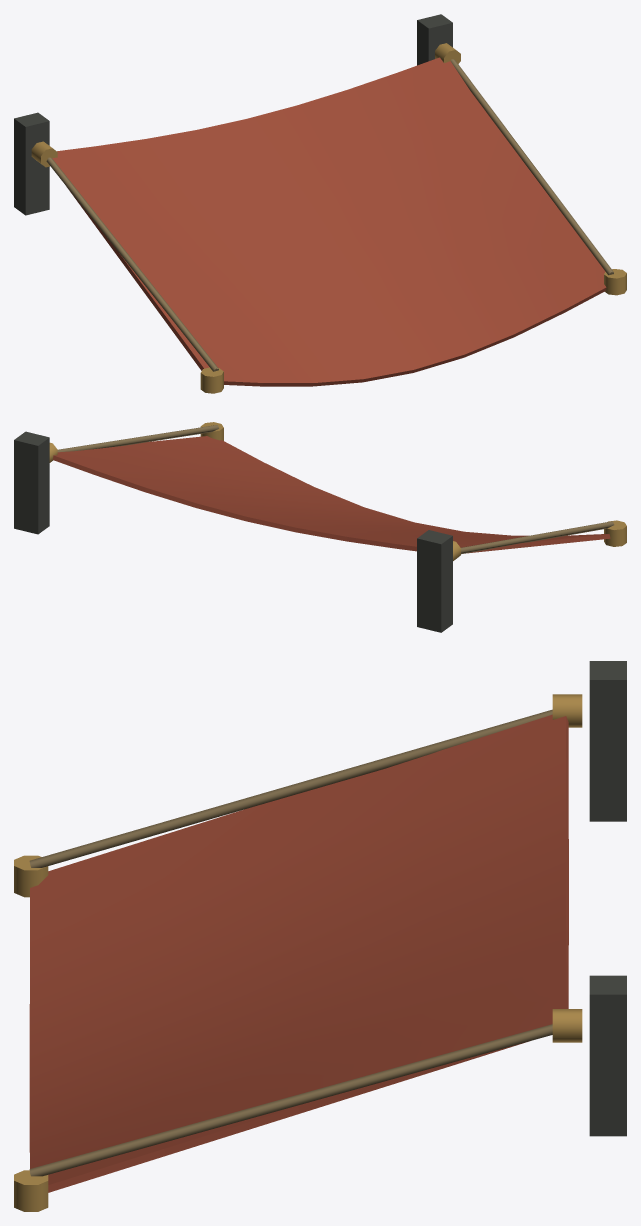
The model's file is awning_soft.glb.
3 views of the same model, one above another, from view 1: azimuth 30°, elevation 25°; view 2: azimuth 150°, elevation 25°; view 3: azimuth 270°, elevation 25° (orthographic). The views are drawn at different scales.
Parts seen in each view (by area): view 1: awning_soft; view 2: awning_soft; view 3: awning_soft.
Boxes of the visible parts, x1,y1,x2,y2 form: awning_soft: [14, 14, 626, 393]; awning_soft: [14, 422, 626, 632]; awning_soft: [14, 661, 626, 1211].
Bounding box in the file's own units: 2.12 × 0.8092 × 1.65.
